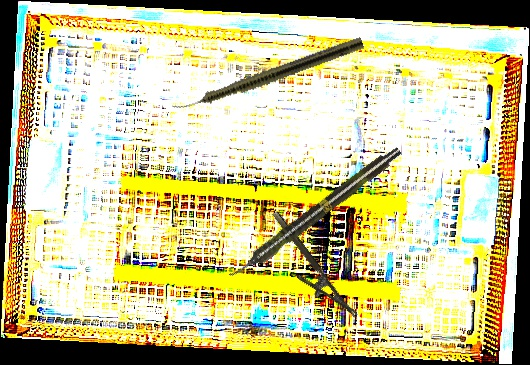Handpiece: (225, 142, 405, 285), (170, 34, 365, 118)
Needle Holder: (257, 209, 359, 331)
